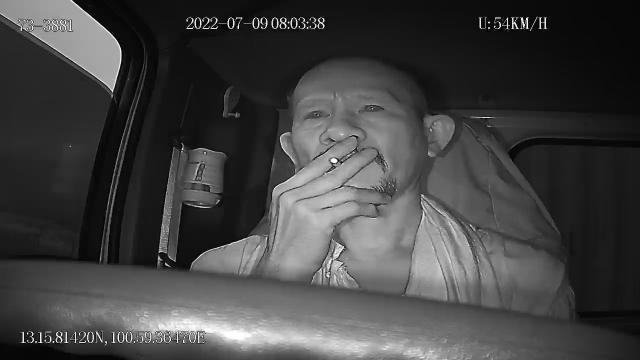SafeDriving: (351, 94, 394, 120), (296, 101, 334, 127)
Smoking: (328, 156, 342, 168)
